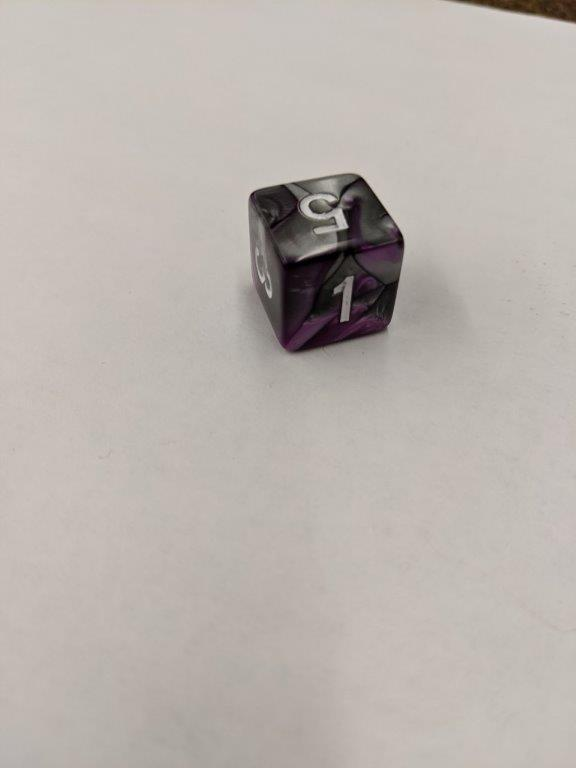d6-5: (248, 172, 406, 353)
